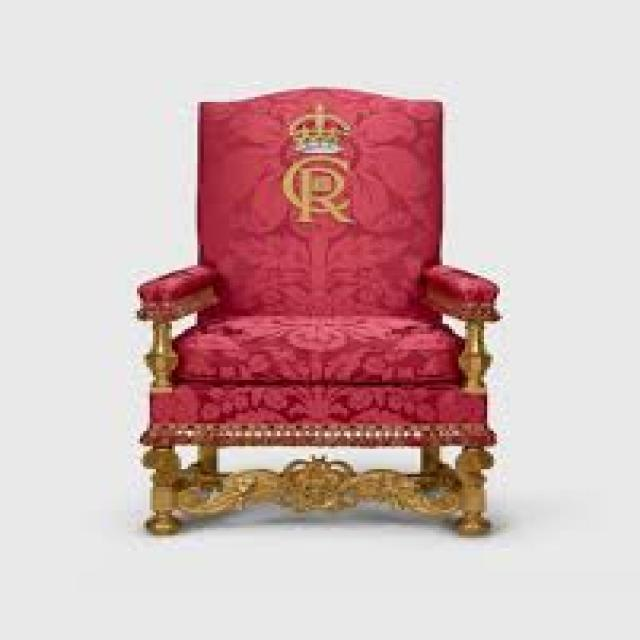chair: (17, 61, 540, 606)
